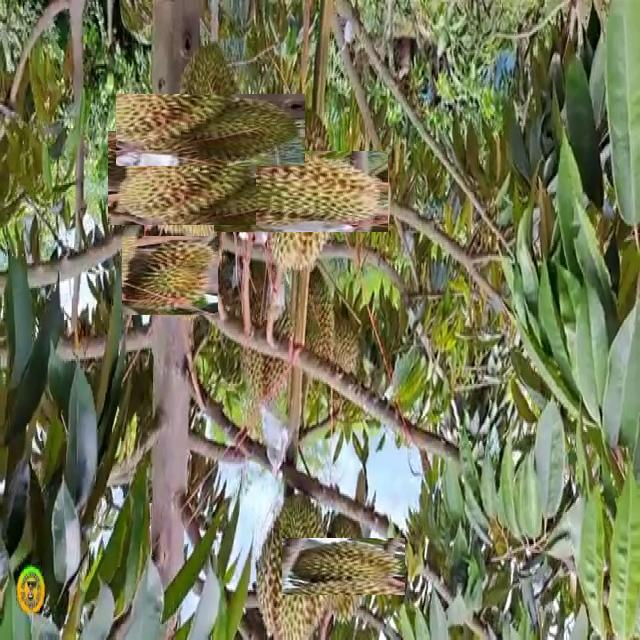durian: (145, 65, 276, 196), (236, 127, 364, 255), (122, 118, 243, 238), (254, 486, 336, 640), (298, 521, 389, 611), (125, 232, 214, 319), (288, 258, 338, 384)
